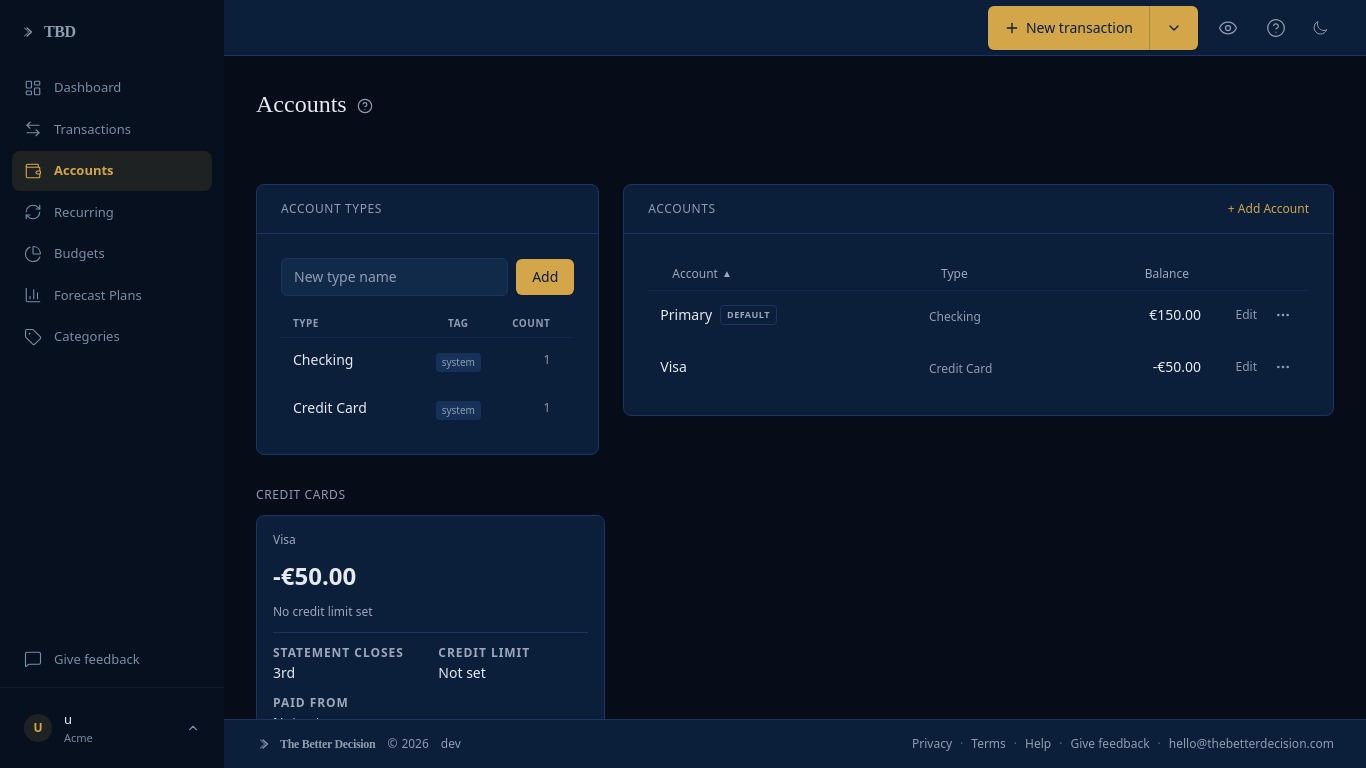
it: CC payment day — inline edit › CC row shows Payment day + Payment month seeded from the account
Step 1. Click the 2nd button "Edit" → {"x": 1246, "y": 367}, box [1236,359,1257,375]
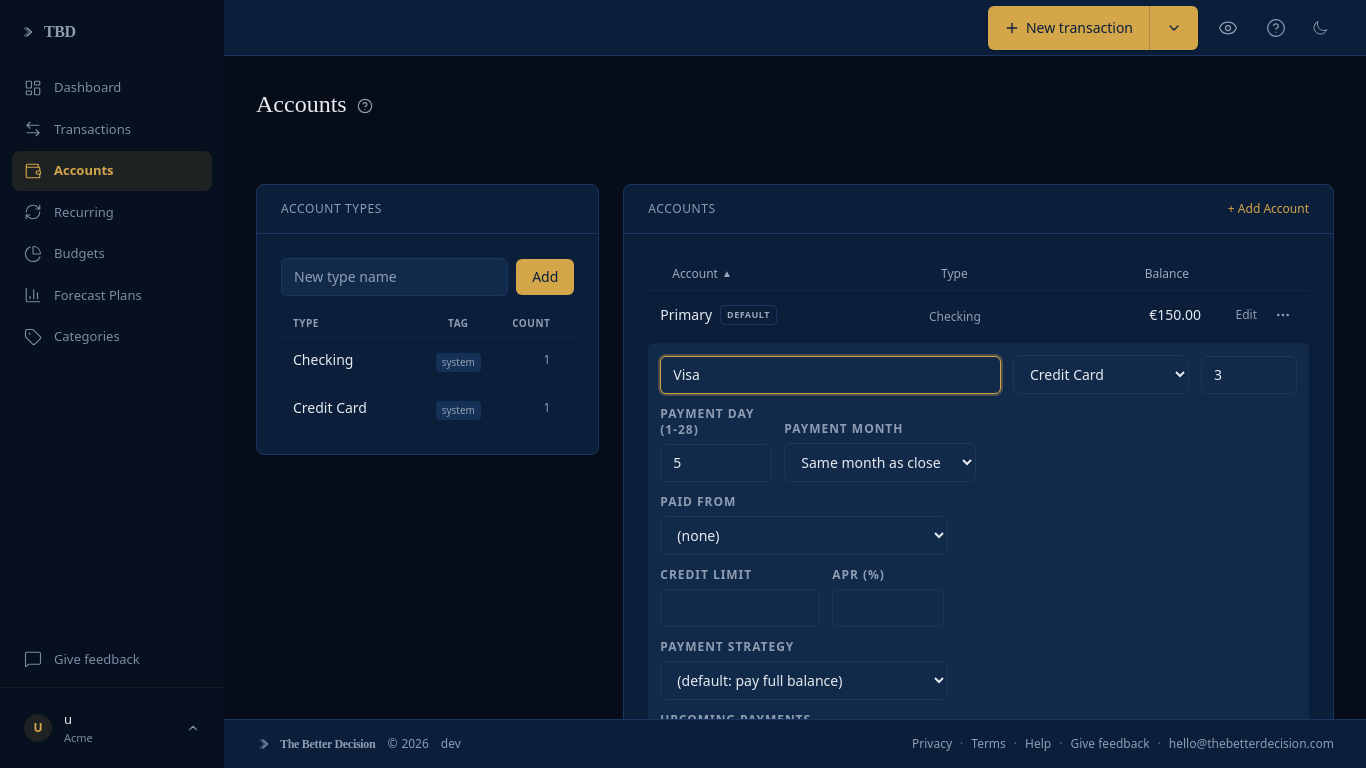
Result: the number field labelled "Payment day" holds "5" at [660,444,772,482]
Result: the dropdown labelled "Payment month" shows "Same month as close" at [784,443,976,482]
